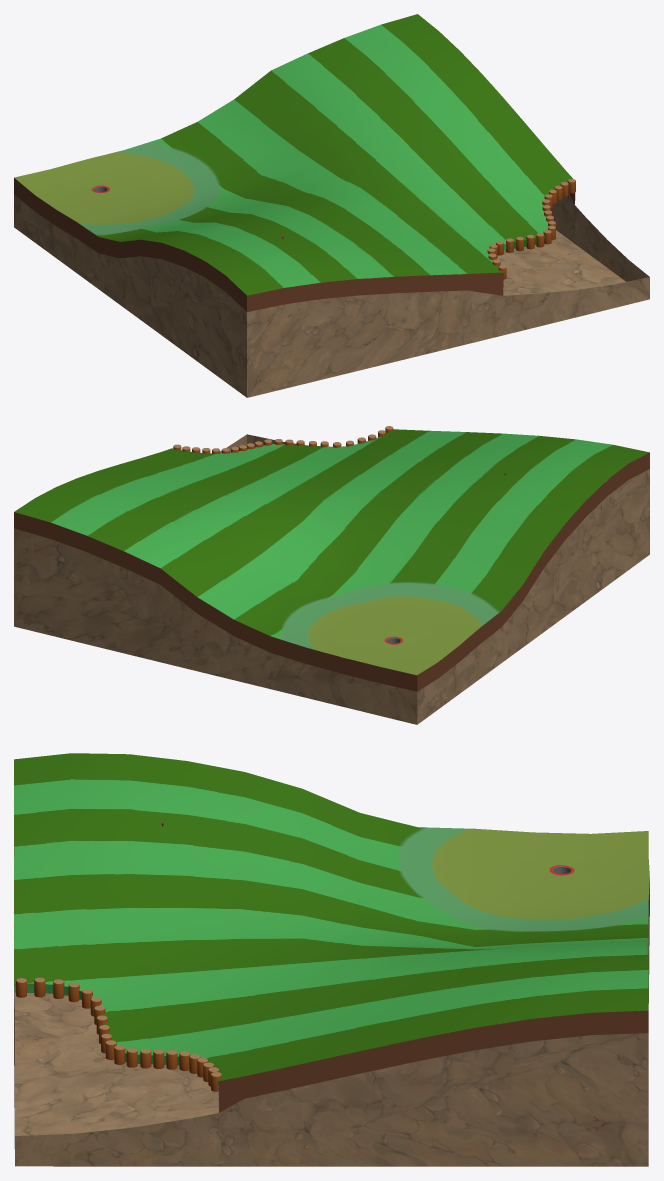
Rendered from ground_with_holder.glb.
3 views of the same model, one above another, from view 1: azimuth 30°, elevation 25°; view 2: azimuth 150°, elevation 25°; view 3: azimuth 270°, elevation 25° (orthographic). The views are drawn at different scales.
Visible parts, largest first — view 1: ge_ground1, ge_gorund2, ge_woods; view 2: ge_ground1, ge_gorund2, ge_woods; view 3: ge_ground1, ge_gorund2, ge_woods.
Part boxes in pixels (left/top/right/bottom): ge_ground1: left=14, top=14, right=575, bottom=311; ge_gorund2: left=14, top=193, right=649, bottom=397; ge_woods: left=487, top=182, right=568, bottom=279; ge_ground1: left=14, top=429, right=649, bottom=691; ge_gorund2: left=14, top=434, right=649, bottom=724; ge_woods: left=182, top=426, right=393, bottom=453; ge_ground1: left=14, top=753, right=649, bottom=1112; ge_gorund2: left=14, top=905, right=649, bottom=1166; ge_woods: left=16, top=977, right=219, bottom=1086.
Size of the model in its own units: 15 by 4.07 by 15.03.
Materials: 2 (2 with a texture image).
